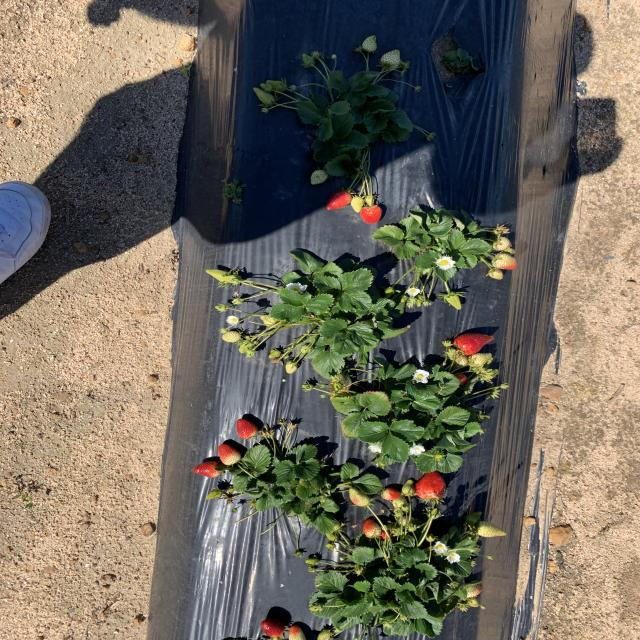unripe: (451, 332, 495, 356), (416, 468, 447, 498), (324, 190, 352, 210), (192, 462, 225, 478), (258, 619, 284, 638), (216, 443, 239, 464), (235, 418, 258, 438), (446, 371, 470, 388), (360, 206, 382, 224), (364, 519, 383, 537), (379, 487, 399, 499), (378, 527, 394, 542)
